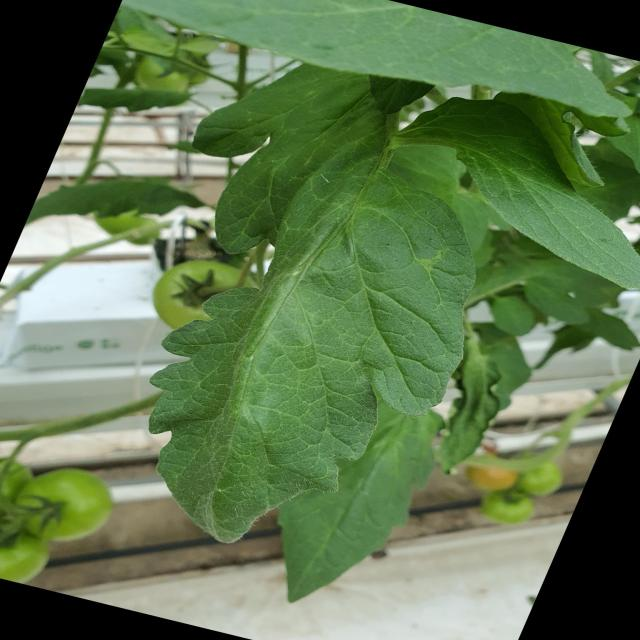Healthy Leaf: (163, 48, 497, 555)
